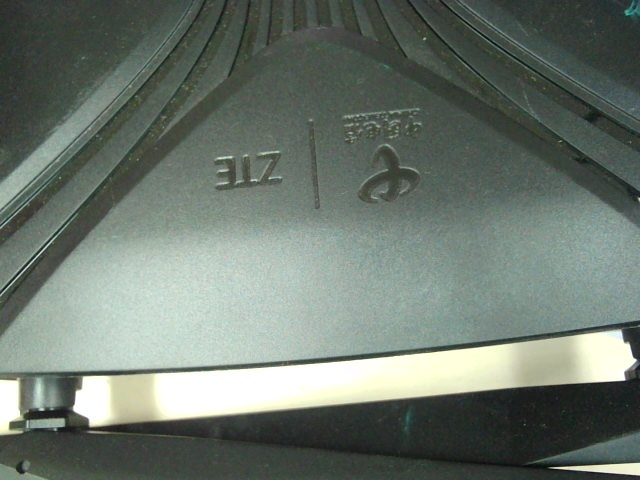AX_ZTEChinaTelecom: (219, 104, 438, 204)
